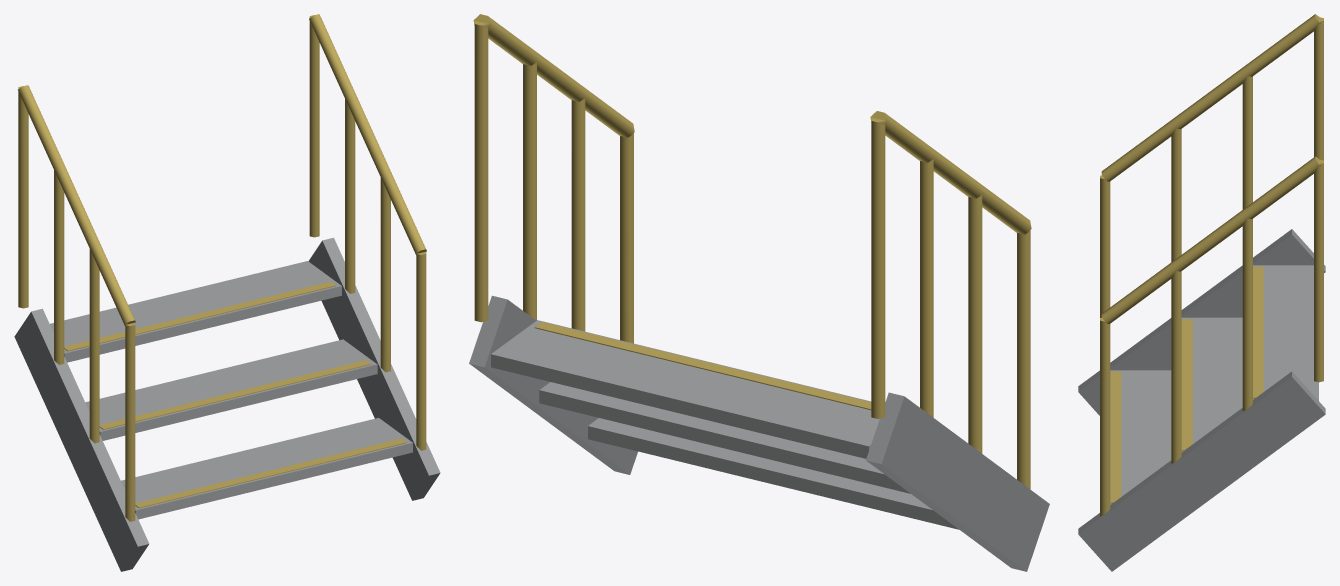
The model's file is habSteps_steel.glb.
The picture shows the model from 3 angles, left to right: view 1: azimuth 30°, elevation 25°; view 2: azimuth 150°, elevation 25°; view 3: azimuth 270°, elevation 25°; orthographic projection. The views are drawn at different scales.
Visible parts, largest first — view 1: habSteps_steel; view 2: habSteps_steel; view 3: habSteps_steel.
Boxes of the visible parts, x1=… form: habSteps_steel: x1=14, y1=14, x2=440, y2=571; habSteps_steel: x1=469, y1=14, x2=1049, y2=571; habSteps_steel: x1=1078, y1=14, x2=1325, y2=571.
Bounding box in the file's own units: 1.31 × 1.7 × 0.9261.
